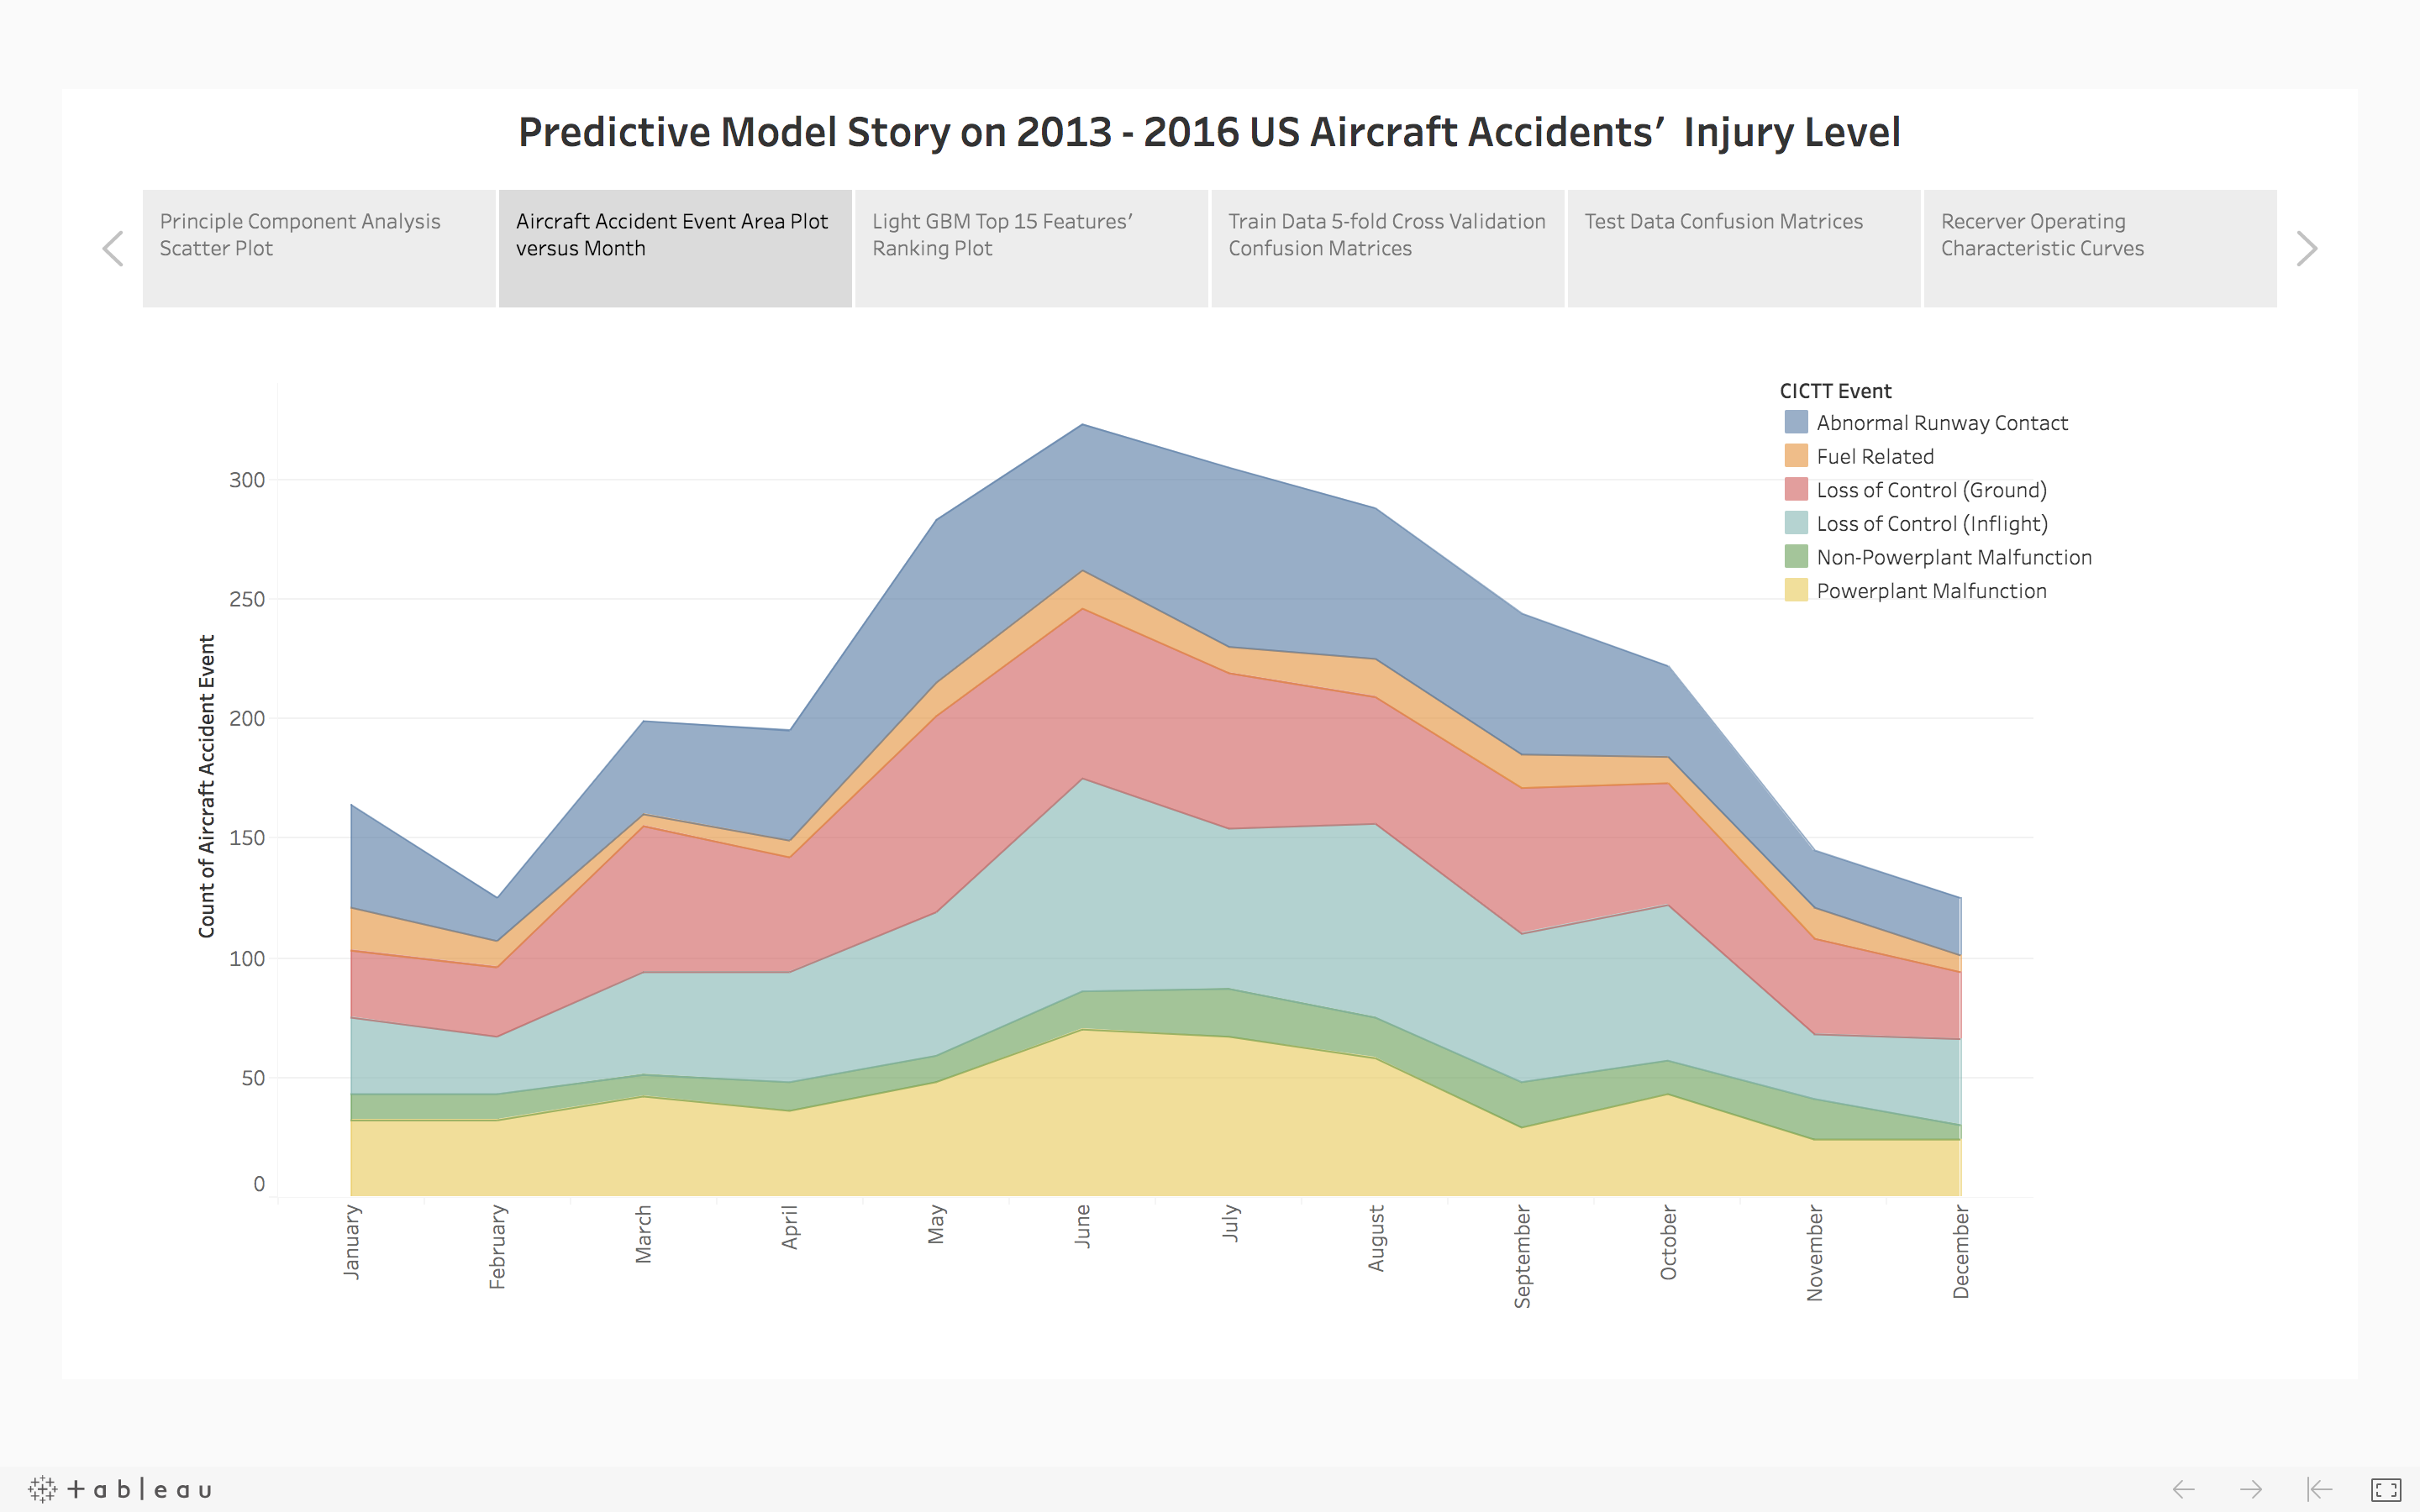

The page's visual inventory and layout, read from the dashboard file:
{"tool":"tableau","page":{"name":"Event_Dash","canvas":[1266,668],"ordinal":0},"visuals":[{"type":"legend","title":"Event","param":"[federated.0ajpbn71g3tkoe11lcg210ykgytw].[none:CICTTEvent:nk]","box":[972,30,279,201]},{"type":"worksheet","title":"Event","mark":"Area","rows":["CICTTEvent"],"cols":["ev_date"],"box":[20,34,1103,564]}]}

Visuals, with their boxes on the page's 1266x668 design canvas (x1, y1, x2, y2). These are canvas units, not pixel positions in the 2420x1512 screenshot, which may show the page scaled, cropped or inside an application window:
"Event" legend: rect(972, 30, 1251, 231)
"Event" worksheet (Area marks): rect(20, 34, 1123, 598)
